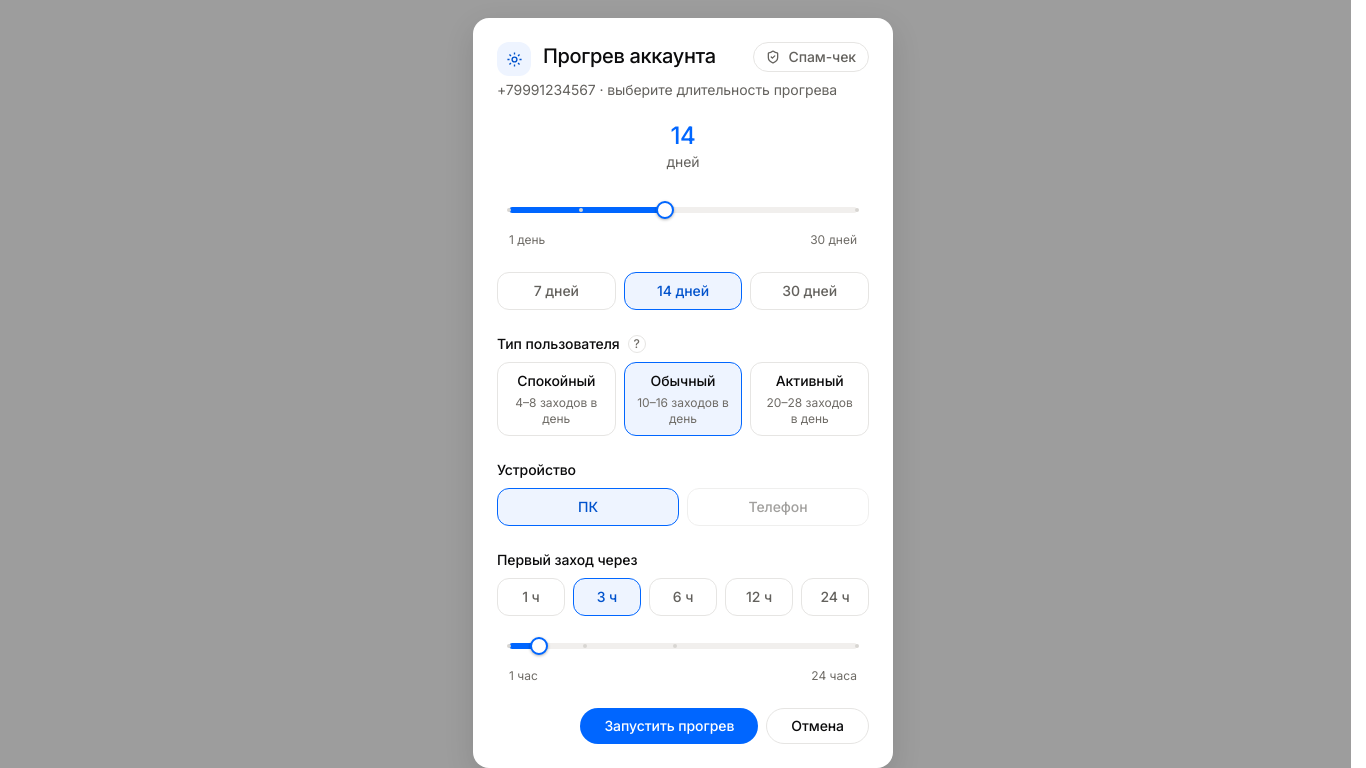
Test: a picked delay alone also asks before closing
This screenshot has width=1366, height=768.
Click the radio button labelled "6 ч" at (683, 597), box x1=649 y1=578 x2=717 y2=616
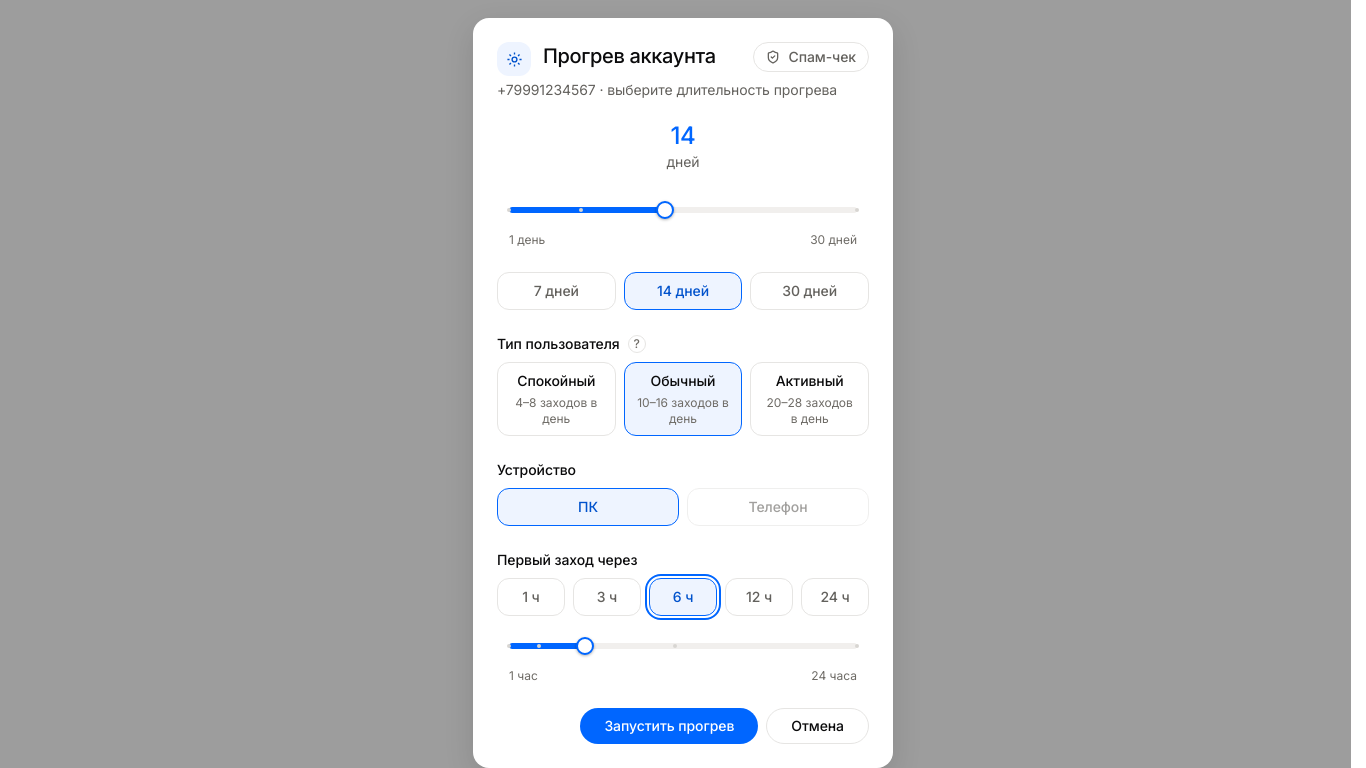
Click the button "Отмена" at (818, 726), box x1=766 y1=708 x2=869 y2=744
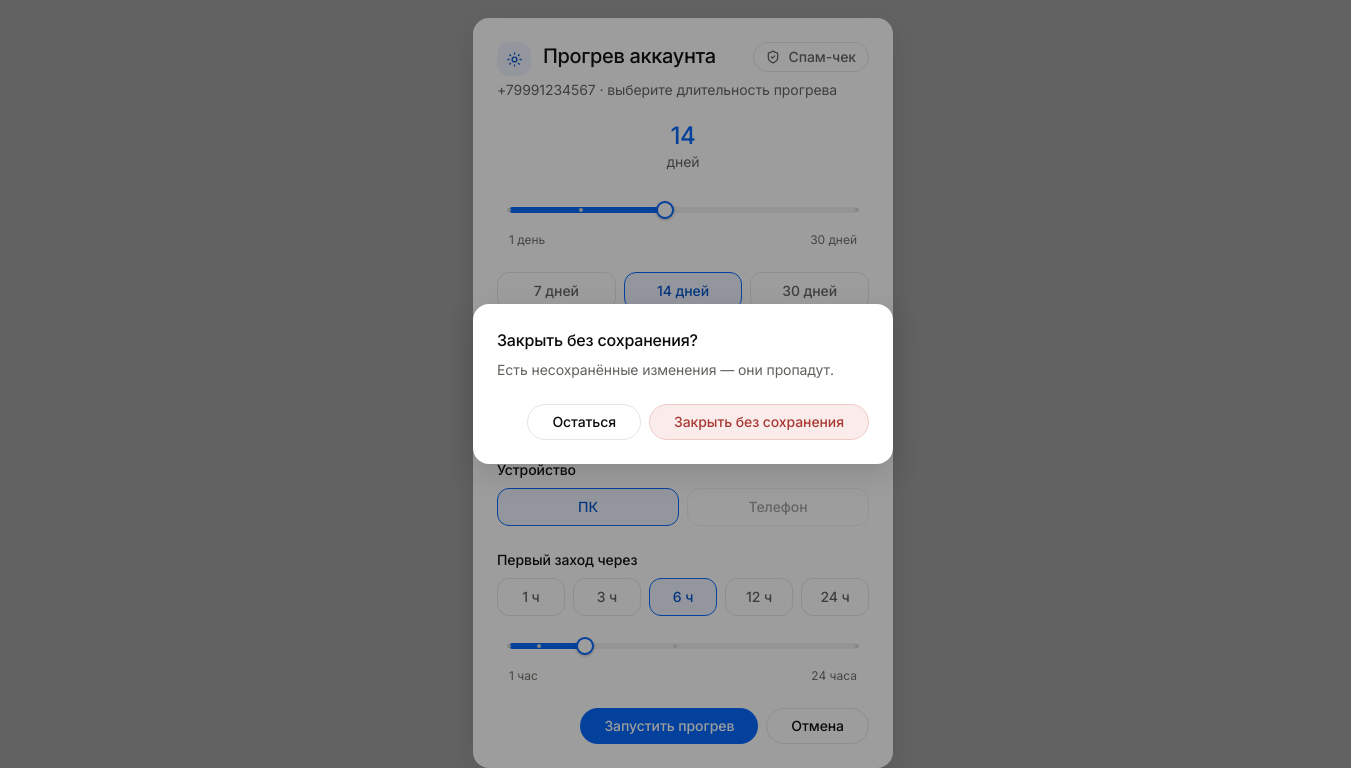
Expected: the text "Закрыть без сохранения?" is shown, x1=497 y1=330 x2=698 y2=350
